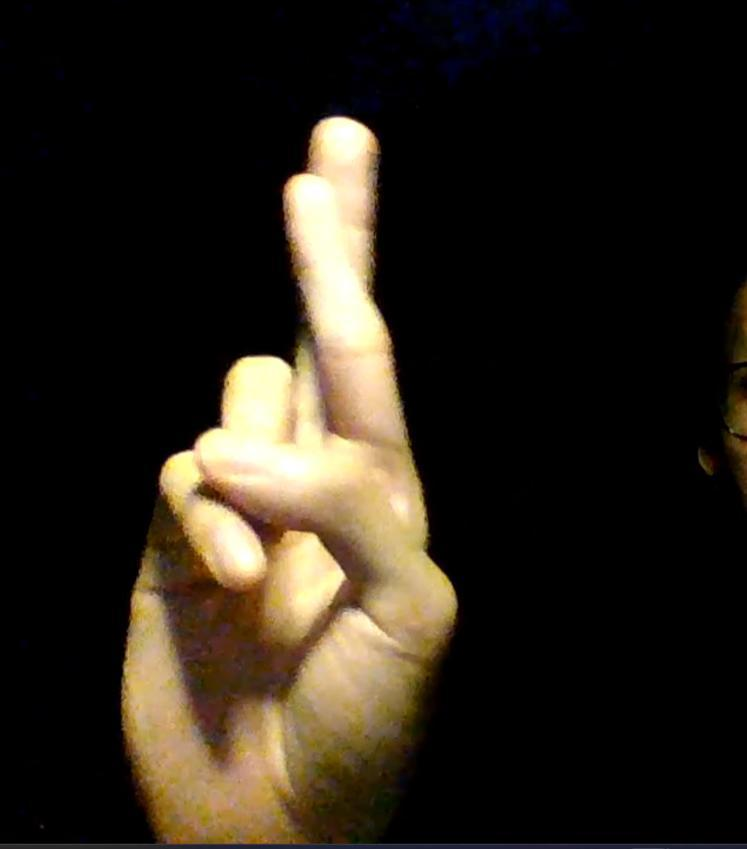r: (117, 113, 456, 849)
